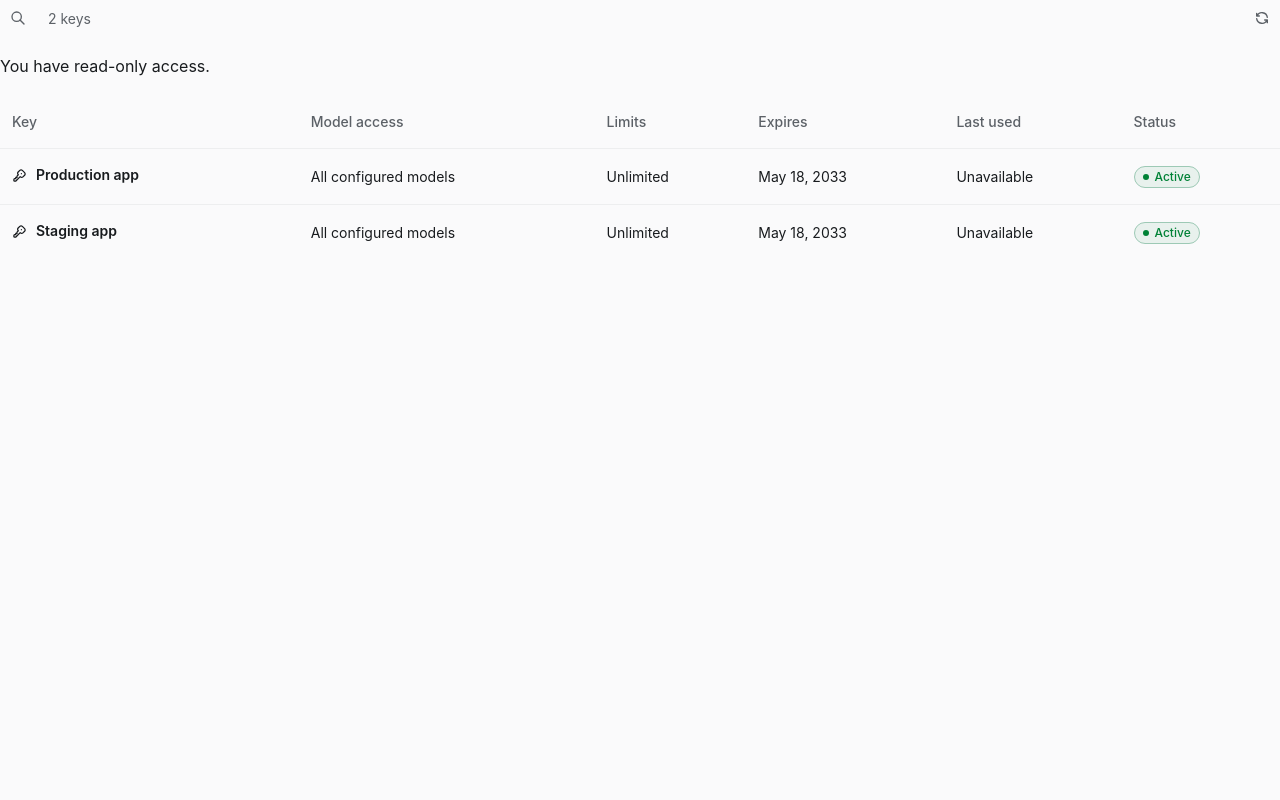
searches names without issuing requests and can recover from an empty result
Expected: the link with aria-label "View key Production app" is shown, [12,165,139,185]
Click the button named "Search API keys" at (18, 18), box [0,0,36,36]
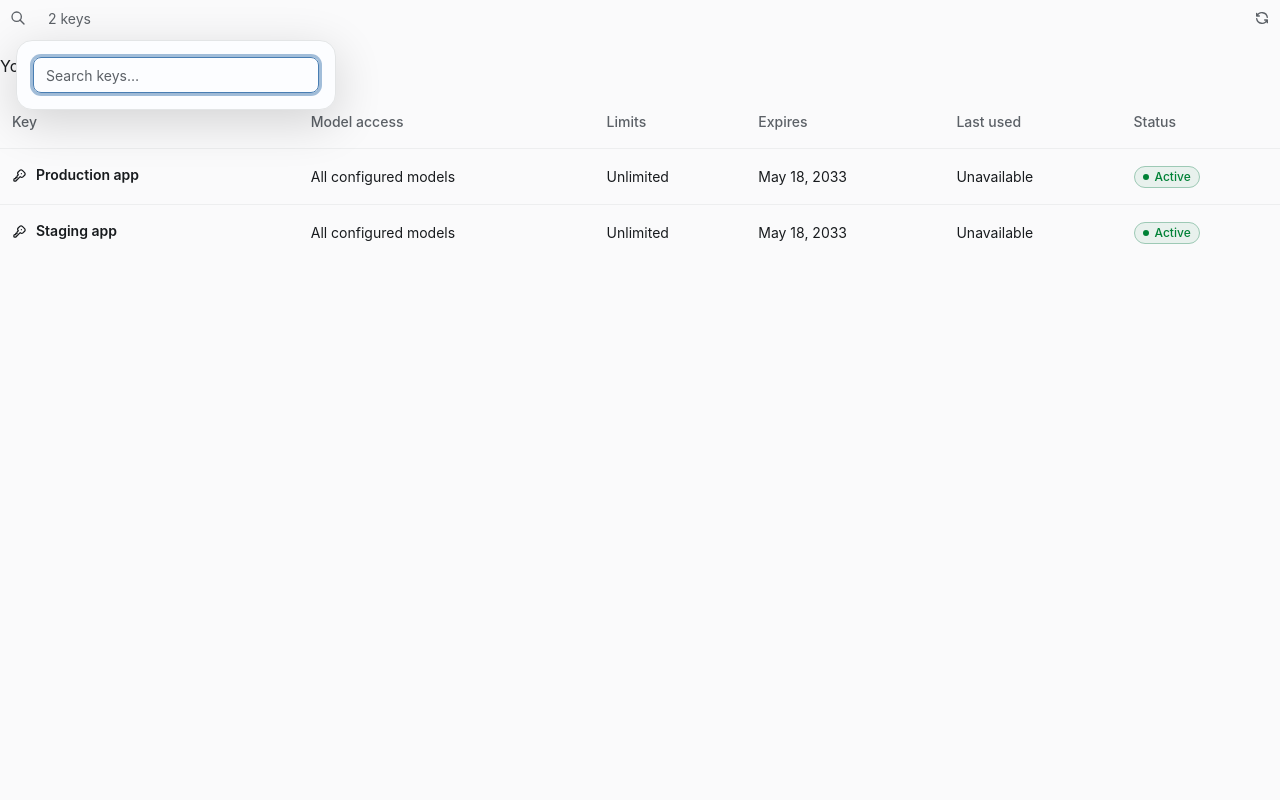
Type "PRODUCTION" into the field named "Search API keys" at (176, 75), box [33,57,319,93]
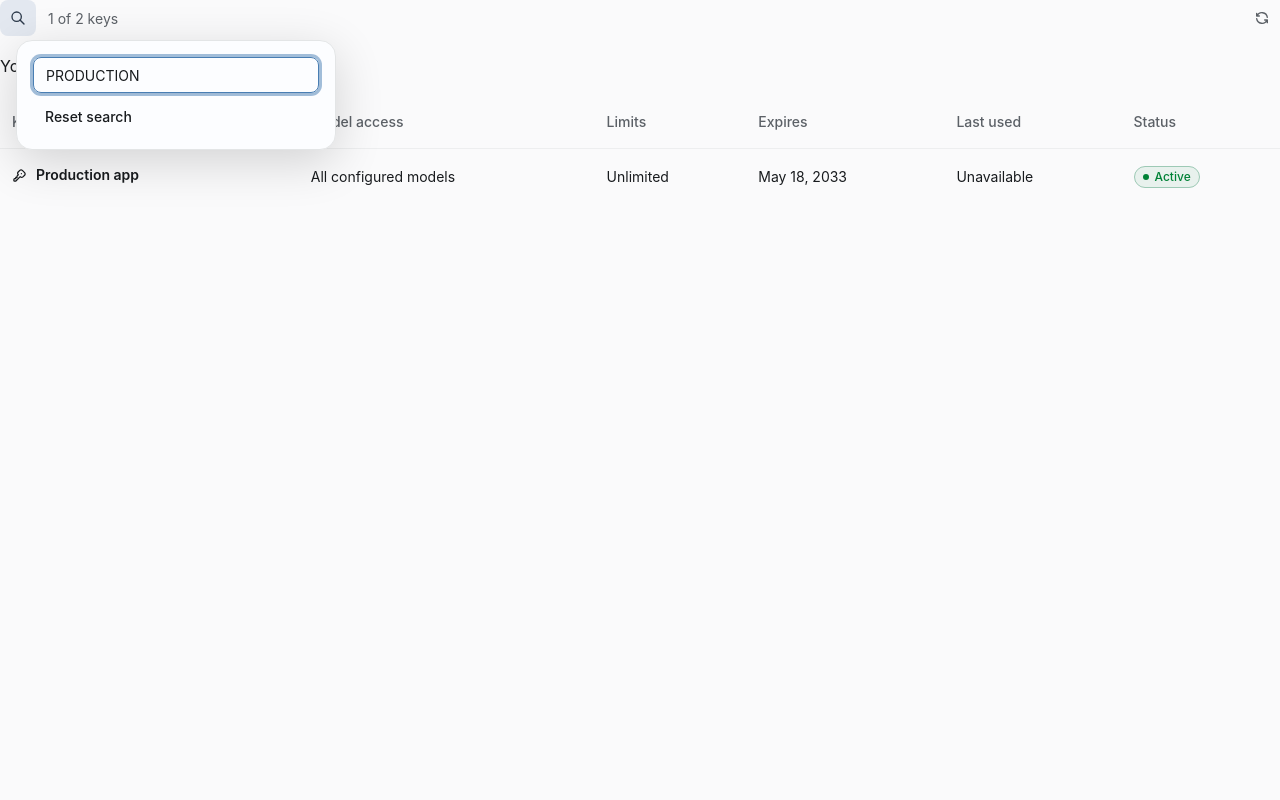
Expected: the link with aria-label "View key Production app" is shown, [12,165,139,185]
Replace the text in the field named "Search API keys" with "missing" at (176, 75), box [33,57,319,93]
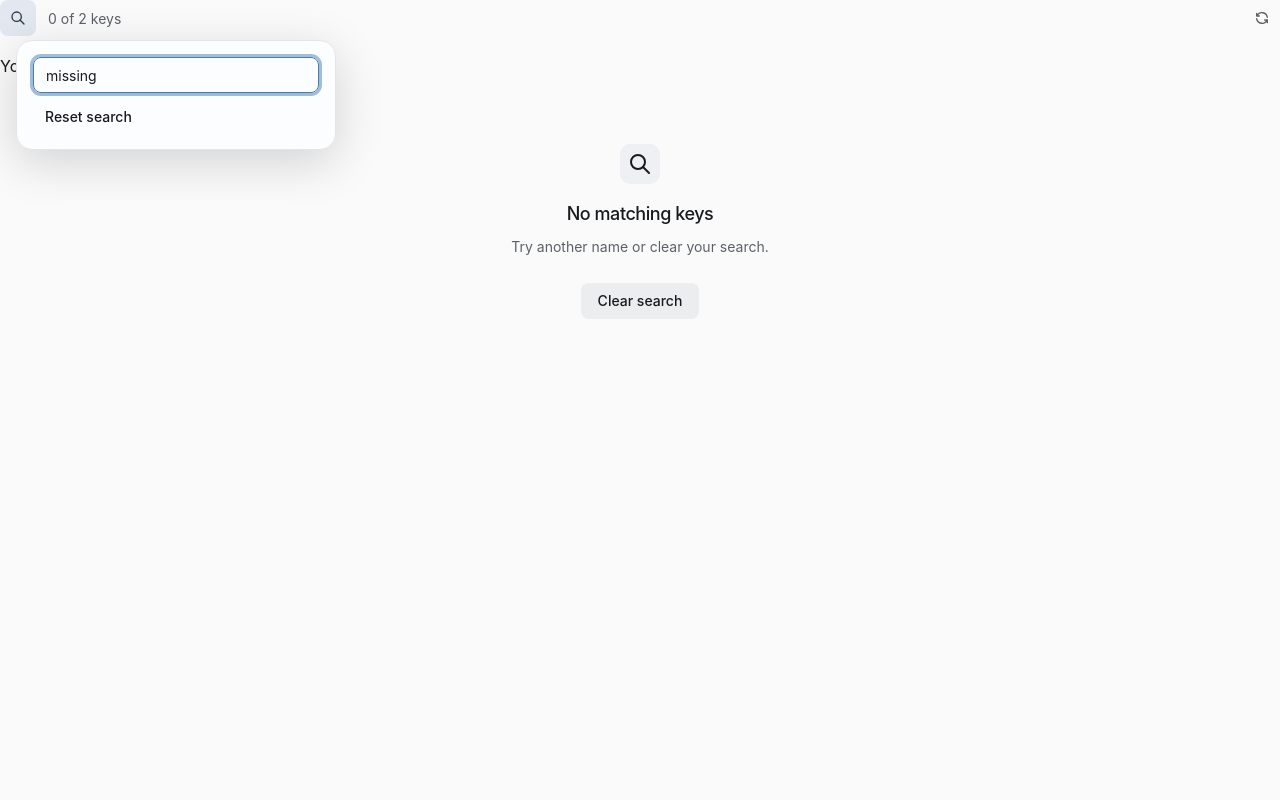
Expected: the text "No matching keys" is shown, [567,200,713,228]
Click the button "Clear search" at (640, 301), box [581,283,699,319]
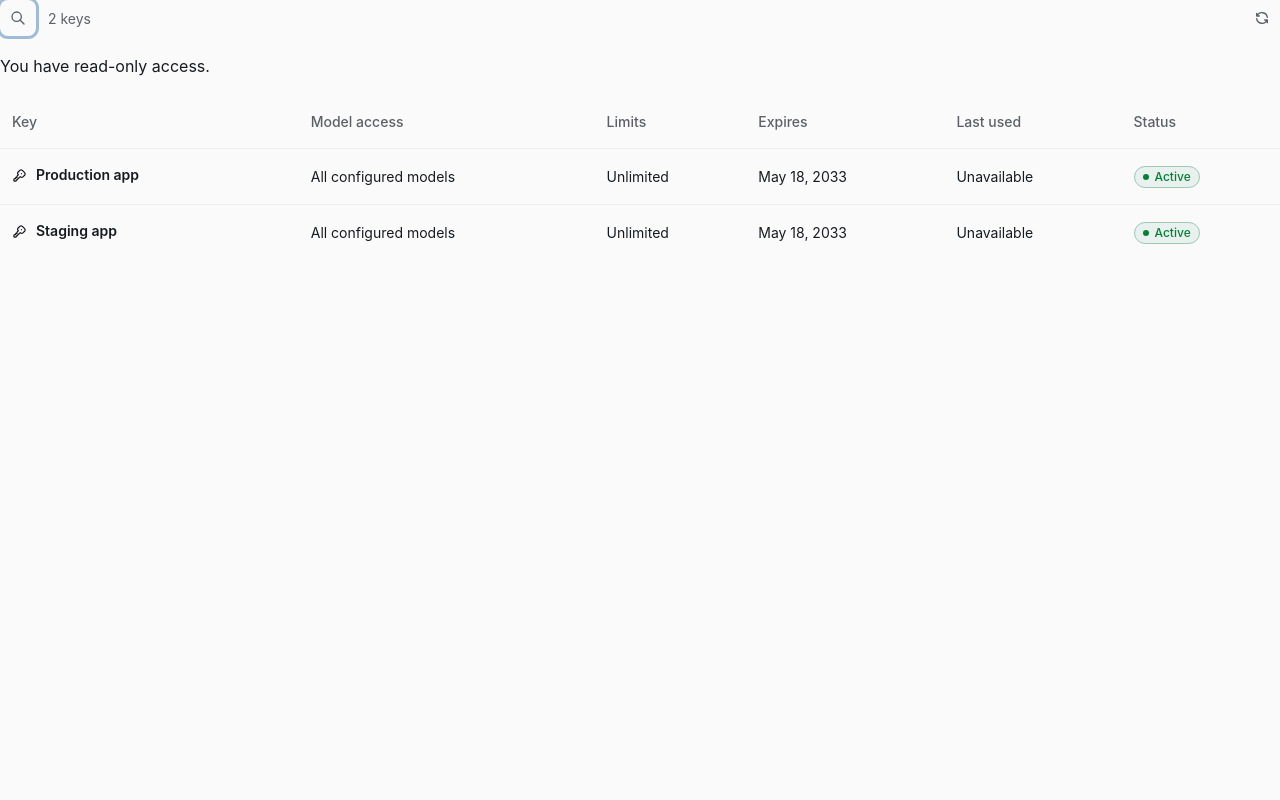
Expected: the link with aria-label "View key Staging app" is shown, [12,221,117,241]
